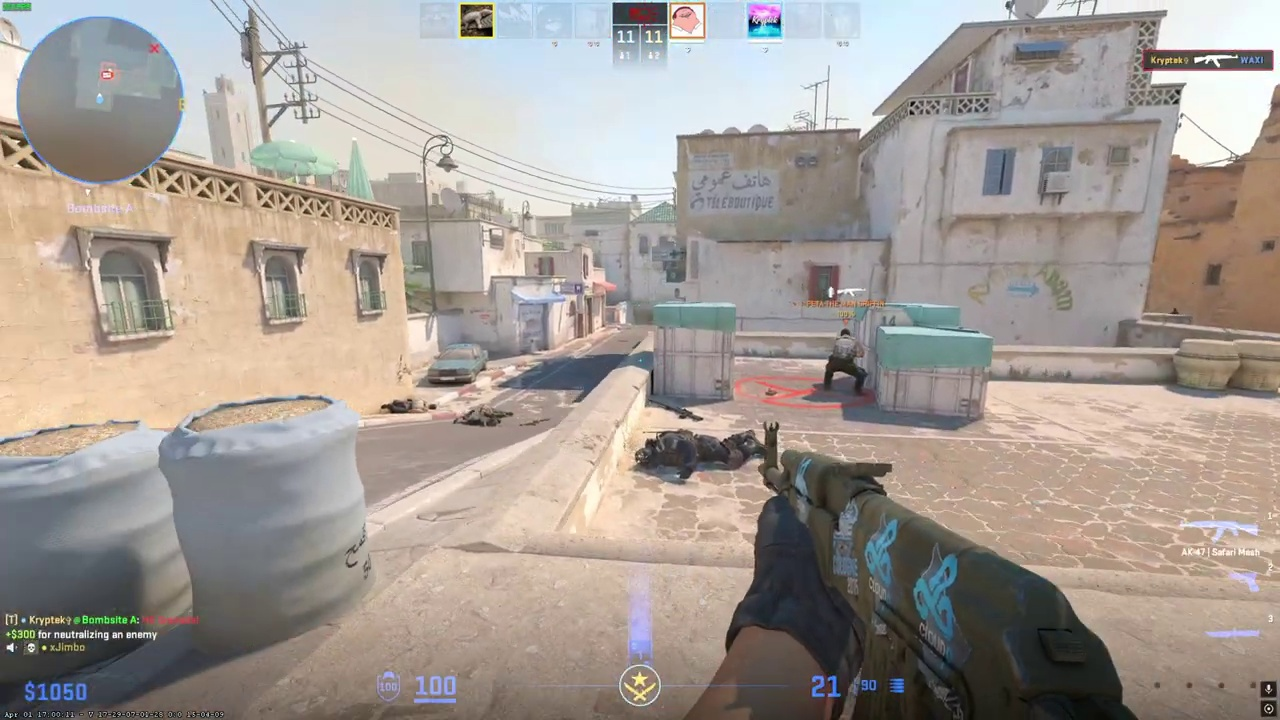Terrorist: (823, 328, 868, 394)
